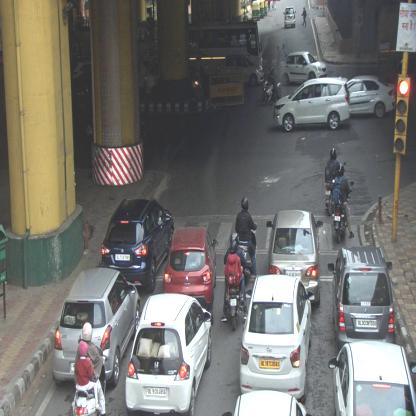bus: (190, 21, 262, 67)
car: (52, 268, 140, 388), (126, 293, 212, 415), (240, 274, 314, 403), (102, 198, 174, 294), (327, 247, 396, 344), (328, 339, 415, 415), (266, 209, 322, 304), (164, 228, 218, 306), (274, 78, 352, 132), (348, 75, 396, 117), (276, 51, 328, 83), (219, 55, 264, 84), (284, 4, 296, 29)
motorcycle: (73, 323, 107, 415), (224, 230, 247, 330), (234, 197, 258, 281), (335, 162, 353, 244), (324, 146, 340, 214), (260, 64, 283, 104)
